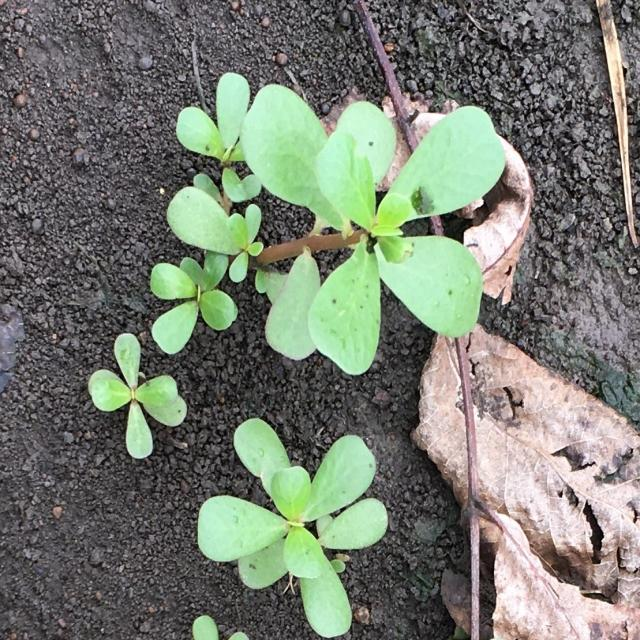Purslane: (150, 73, 507, 376), (198, 418, 388, 638), (88, 334, 187, 458)
